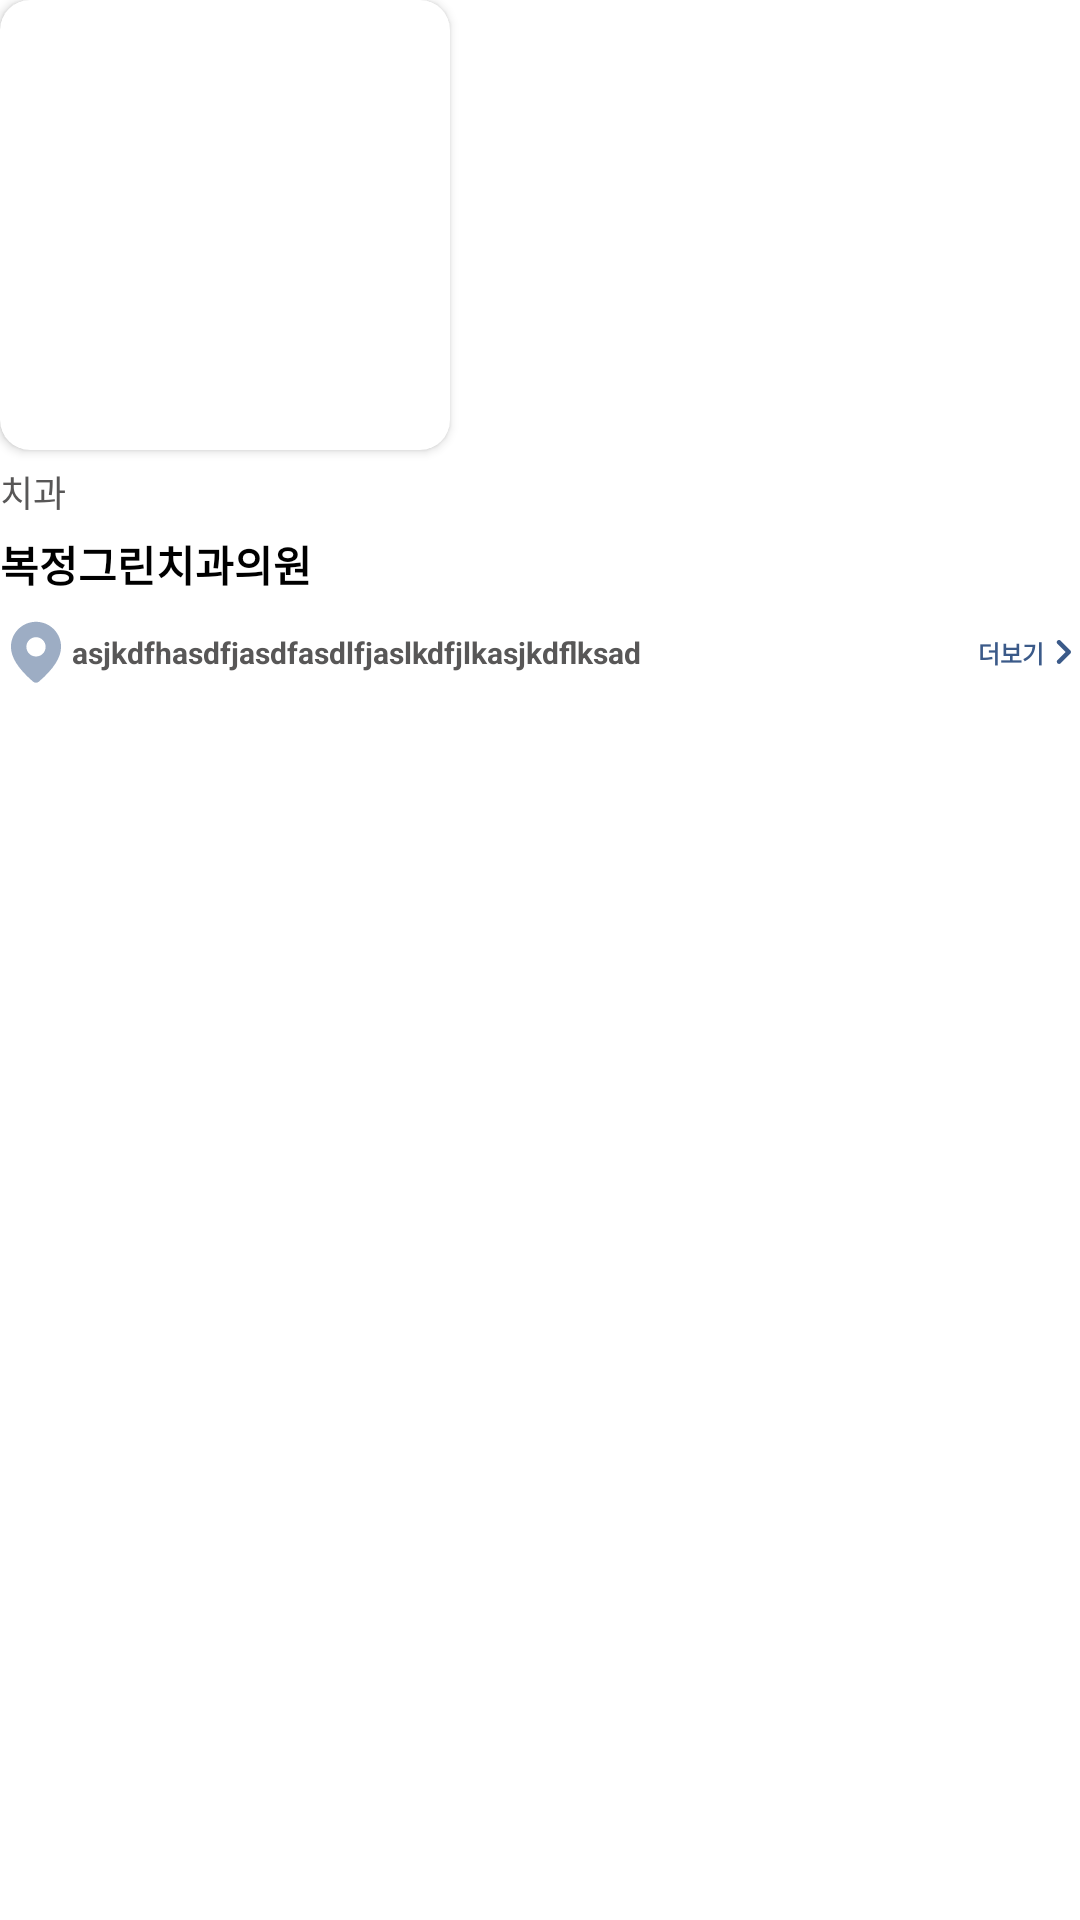

Where icons sit on this 1080px×1920px app screen, as bbox(x1, y1, x2, y2):
arrow right: bbox(1056, 640, 1071, 664)
location home: bbox(11, 622, 61, 683)
